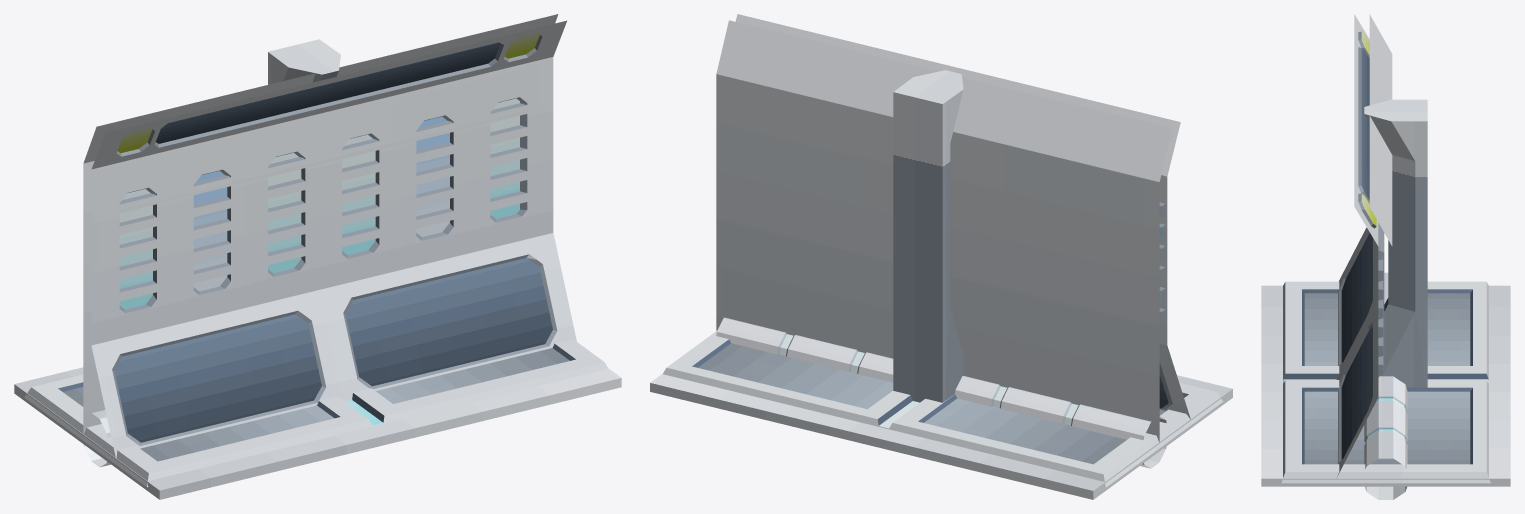
File: Scifi.FBX
The picture shows the model from 3 angles, left to right: view 1: azimuth 30°, elevation 25°; view 2: azimuth 150°, elevation 25°; view 3: azimuth 270°, elevation 25°; orthographic projection. The views are drawn at different scales.
Parts seen in each view (by area): view 1: wall_detailed, wall_striped, floortile, roof, wall_simple, pillar; view 2: wall_detailed, wall_striped, floortile, pillar, roof, pipe; view 3: floortile, wall_detailed, pillar, roof, pipe, wall_striped, wall_simple.
Boxes of the visible parts, x1,y1,x2,y2 form: wall_detailed: (83,14,576,458); wall_striped: (83,58,553,432); floortile: (24,339,608,487); roof: (14,367,621,499); wall_simple: (91,57,553,344); pillar: (268,39,340,84); wall_detailed: (716,14,1190,441); wall_striped: (716,74,1167,441); floortile: (663,331,1223,487); pillar: (893,70,963,402); roof: (650,373,1232,499); pipe: (716,317,1166,468); floortile: (1281,281,1490,483); wall_detailed: (1336,14,1392,476); pillar: (1364,99,1427,387); roof: (1261,285,1510,486); pipe: (1364,272,1407,499); wall_striped: (1378,259,1383,375); wall_simple: (1378,222,1384,377).
Bounding box in the file's own units: 119 × 85.57 × 64.43.
1 material, 1 textured.
